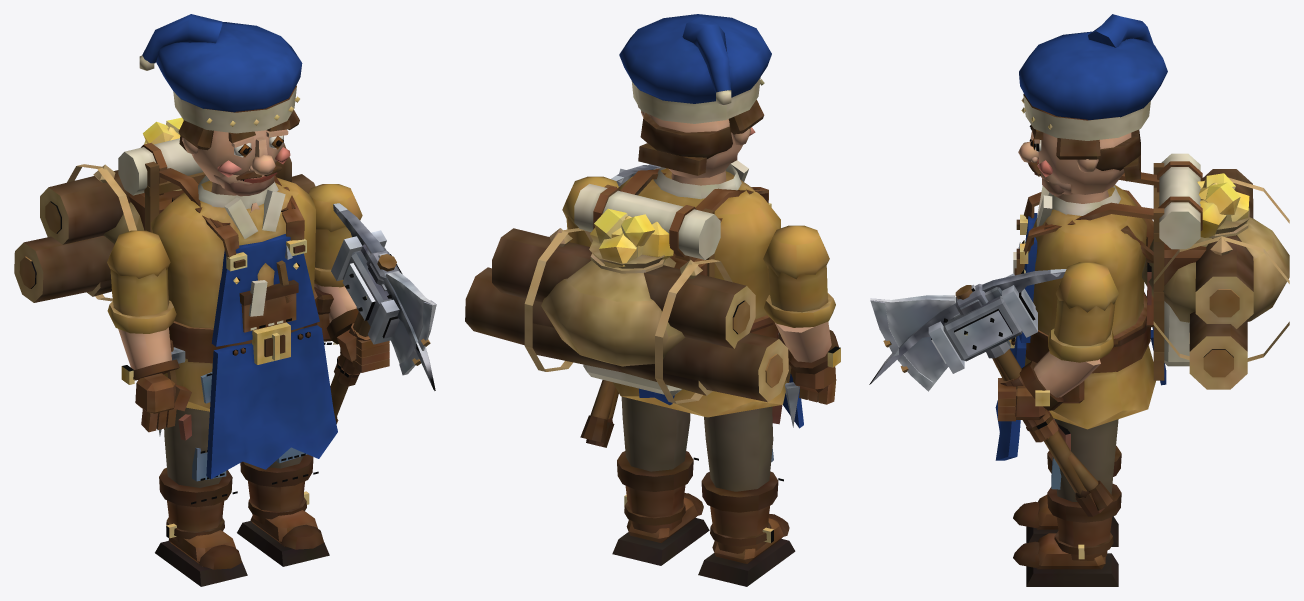
File: villager.glb
3 renders of one model, left to right at view 1: azimuth 30°, elevation 25°; view 2: azimuth 150°, elevation 25°; view 3: azimuth 270°, elevation 25°, orthographic. The views are drawn at different scales.
Visible parts, largest first — view 1: Torso, Head, WoodBundle, ArmL, LegL, LegR, ArmR, PackFrame, Hammer, Axe, Pickaxe, GoldSack; view 2: WoodBundle, Head, GoldSack, LegL, Torso, LegR, ArmL, PackFrame, Axe, ArmR, Pickaxe; view 3: Torso, Head, WoodBundle, LegR, ArmR, PackFrame, GoldSack, Hammer, Axe, Pickaxe, LegL.
Part boxes in pixels (box(x1,y1,x2,y2)): Torso: box(150, 175, 338, 478); Head: box(139, 14, 302, 196); WoodBundle: box(14, 143, 315, 302); ArmL: box(107, 230, 191, 432); LegL: box(155, 407, 247, 586); LegR: box(237, 447, 329, 566); ArmR: box(308, 184, 389, 372); PackFrame: box(118, 138, 295, 232); Hammer: box(330, 230, 402, 423); Axe: box(336, 244, 436, 386); Pickaxe: box(333, 203, 435, 423); GoldSack: box(103, 117, 183, 244); WoodBundle: box(465, 228, 788, 403); Head: box(619, 14, 771, 178); GoldSack: box(541, 208, 685, 366); LegL: box(698, 405, 795, 586); Torso: box(613, 160, 803, 428); LegR: box(612, 396, 709, 565); ArmL: box(763, 225, 840, 404); PackFrame: box(574, 169, 759, 396); Axe: box(580, 164, 660, 443); ArmR: box(562, 176, 618, 246); Pickaxe: box(586, 165, 659, 447); Torso: box(995, 185, 1166, 460); Head: box(1018, 14, 1167, 195); WoodBundle: box(1153, 169, 1289, 389); LegR: box(1013, 419, 1121, 586); ArmR: box(998, 262, 1118, 421); PackFrame: box(1044, 153, 1206, 380); GoldSack: box(1142, 173, 1289, 322); Hammer: box(928, 273, 1089, 499); Axe: box(870, 284, 1113, 510); Pickaxe: box(869, 269, 1104, 516); LegL: box(1013, 418, 1121, 546).
Bounding box in the file's own units: 1.09 × 1.95 × 1.41.
2 materials, 2 textured.
